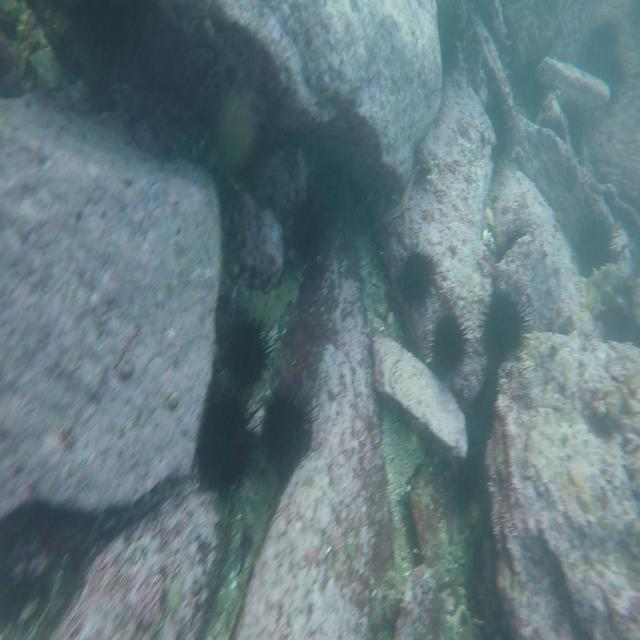echinus: (192, 386, 260, 498), (220, 316, 273, 396), (260, 386, 310, 469), (287, 195, 328, 265), (482, 298, 523, 366), (423, 312, 466, 373), (394, 248, 436, 310), (572, 217, 616, 272), (434, 11, 463, 81)
